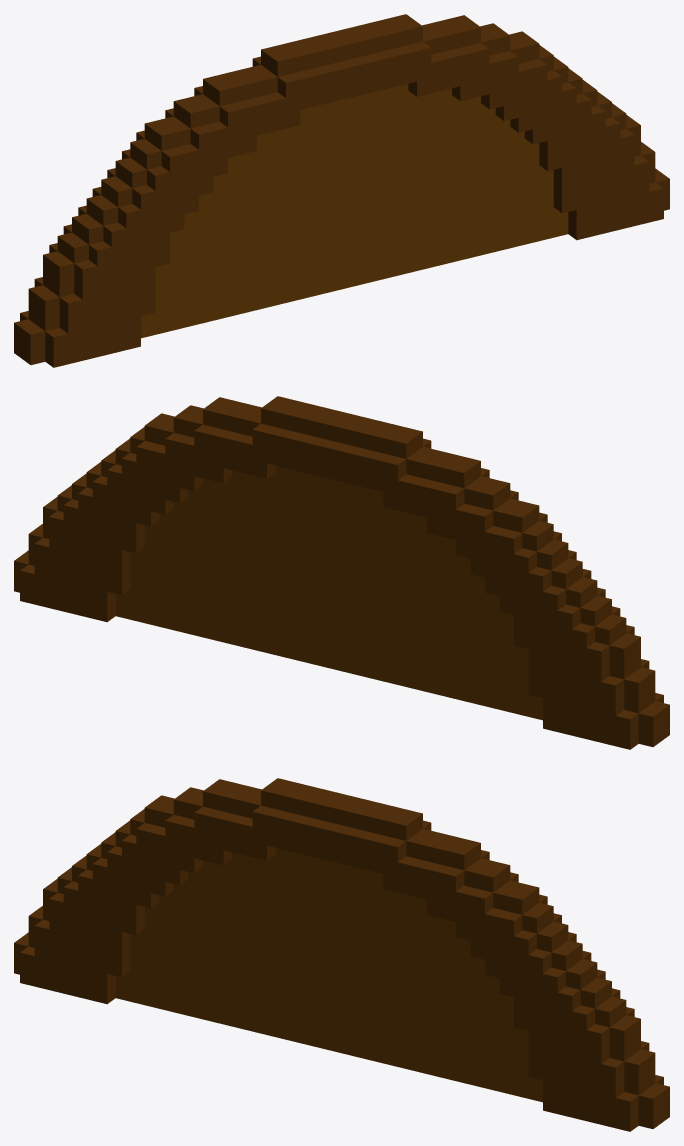
The model's file is marche_2.obj.
3 renders of one model, top to bottom at view 1: azimuth 30°, elevation 25°; view 2: azimuth 150°, elevation 25°; view 3: azimuth 330°, elevation 25°, orthographic.
Bounding box in the file's own units: 44 × 16 × 4.
Materials: 1 (1 with a texture image).
